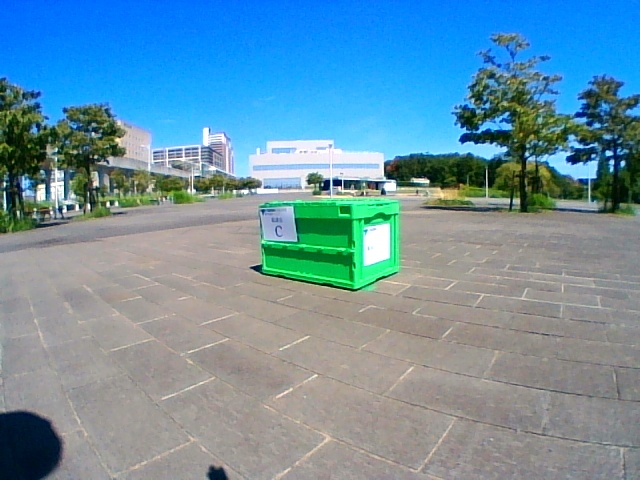green_box: (258, 198, 400, 289)
tag_c: (263, 210, 292, 240)
